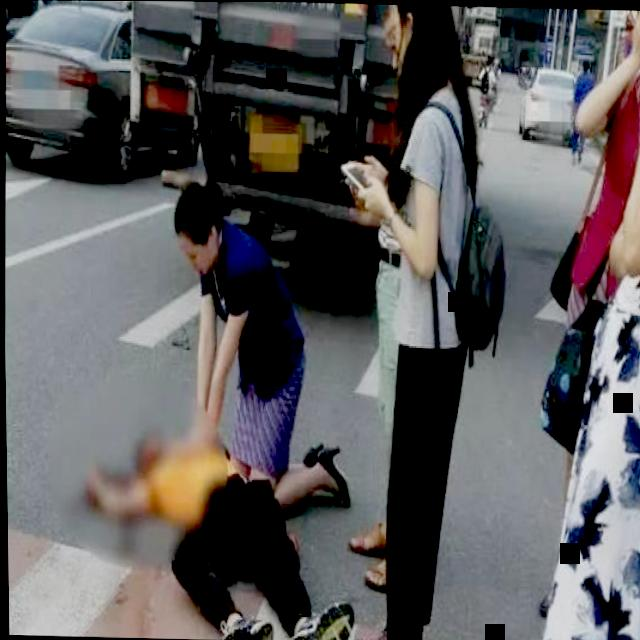Fall-Detected: (66, 402, 374, 640)
